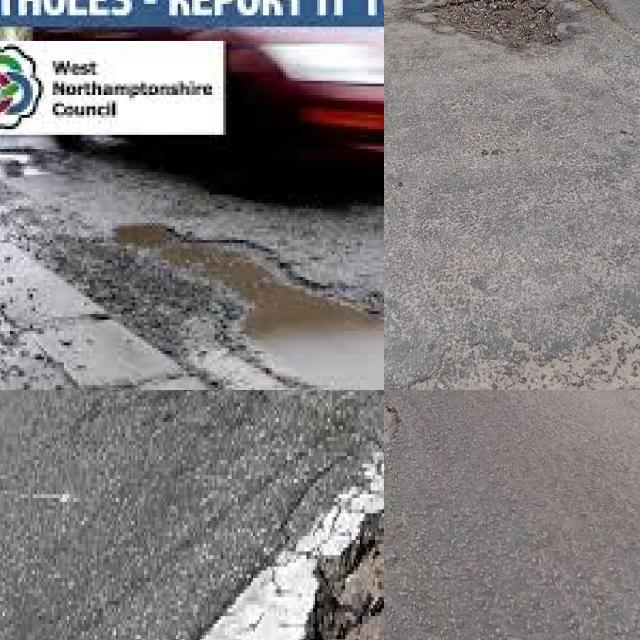Pothole: (115, 226, 384, 390), (424, 0, 560, 51), (384, 405, 401, 443)
